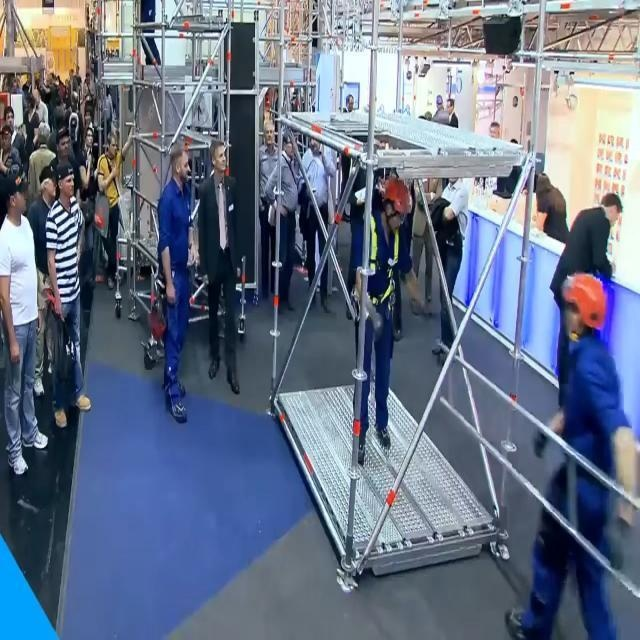Arnes_seguridad: (352, 206, 400, 326)
